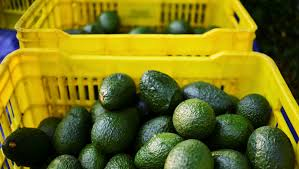aguacate: (246, 125, 299, 167), (172, 97, 218, 136), (86, 112, 132, 149), (96, 72, 136, 114)
